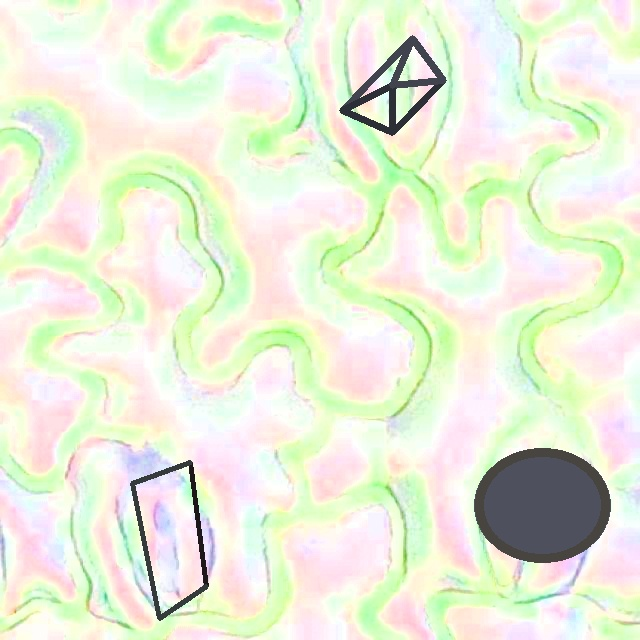open: (474, 448, 609, 562), (131, 460, 207, 619), (339, 35, 446, 135)
